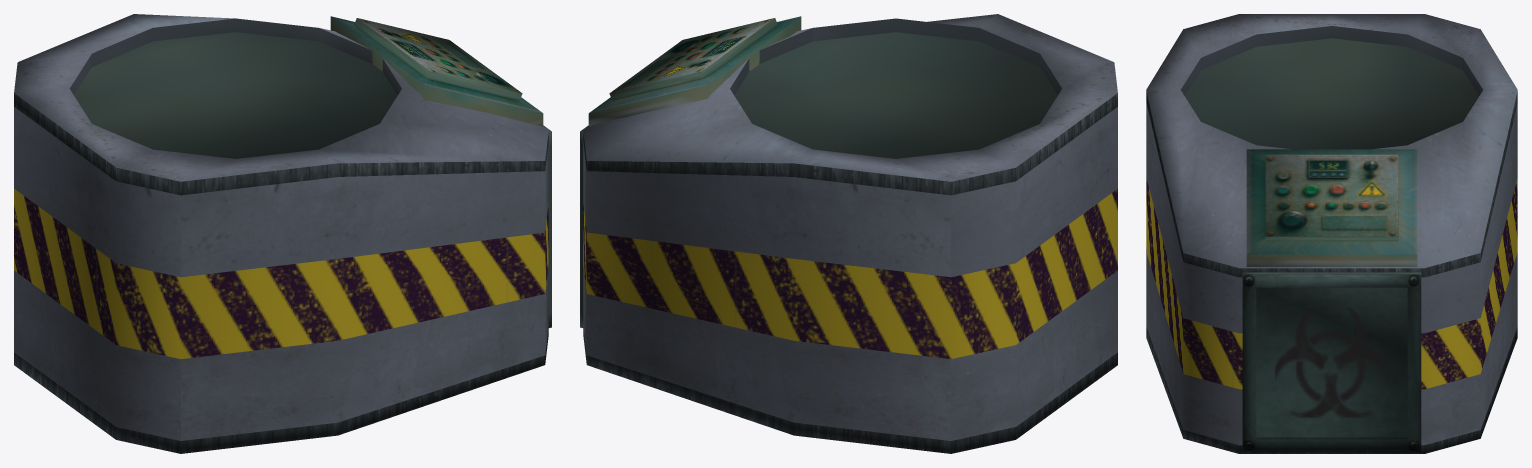
Rendered from capsule leg.glb.
3 views of the same model, side by side, from view 1: azimuth 30°, elevation 25°; view 2: azimuth 150°, elevation 25°; view 3: azimuth 270°, elevation 25° (orthographic). The views are drawn at different scales.
Visible parts, largest first — view 1: rad_machine; view 2: rad_machine; view 3: rad_machine.
Part boxes in pixels (bbox=[...]): rad_machine: bbox=[14, 14, 551, 453]; rad_machine: bbox=[580, 14, 1117, 453]; rad_machine: bbox=[1146, 14, 1517, 453].
Size of the model in its own units: 1.62 by 0.9802 by 1.31.
Materials: 3 (3 with a texture image).
